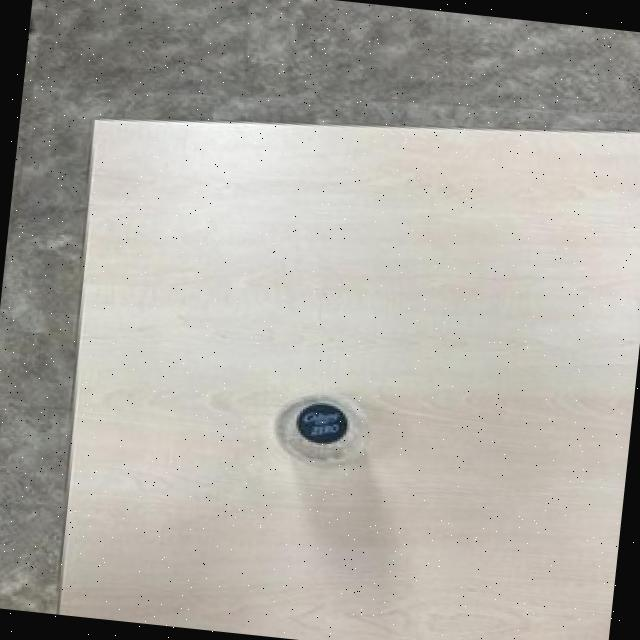bottle: (269, 383, 376, 475)
cap: (292, 398, 349, 448)
